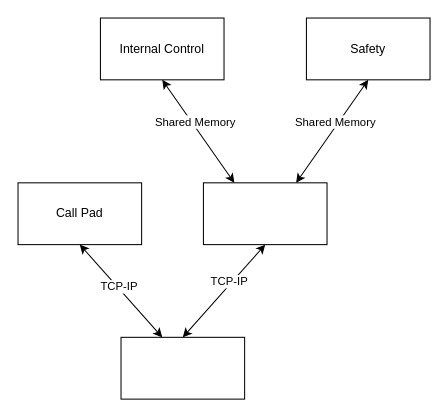
Some shapes in this 448 by 417 pixel diagram are drawn without their labels. The shapes that lost their labels are listed below. From the top down, each one's box as (x1, y1, x2, y2) in pixels, then its label:
(202, 182, 327, 245): Car
(120, 336, 245, 399): Controller
